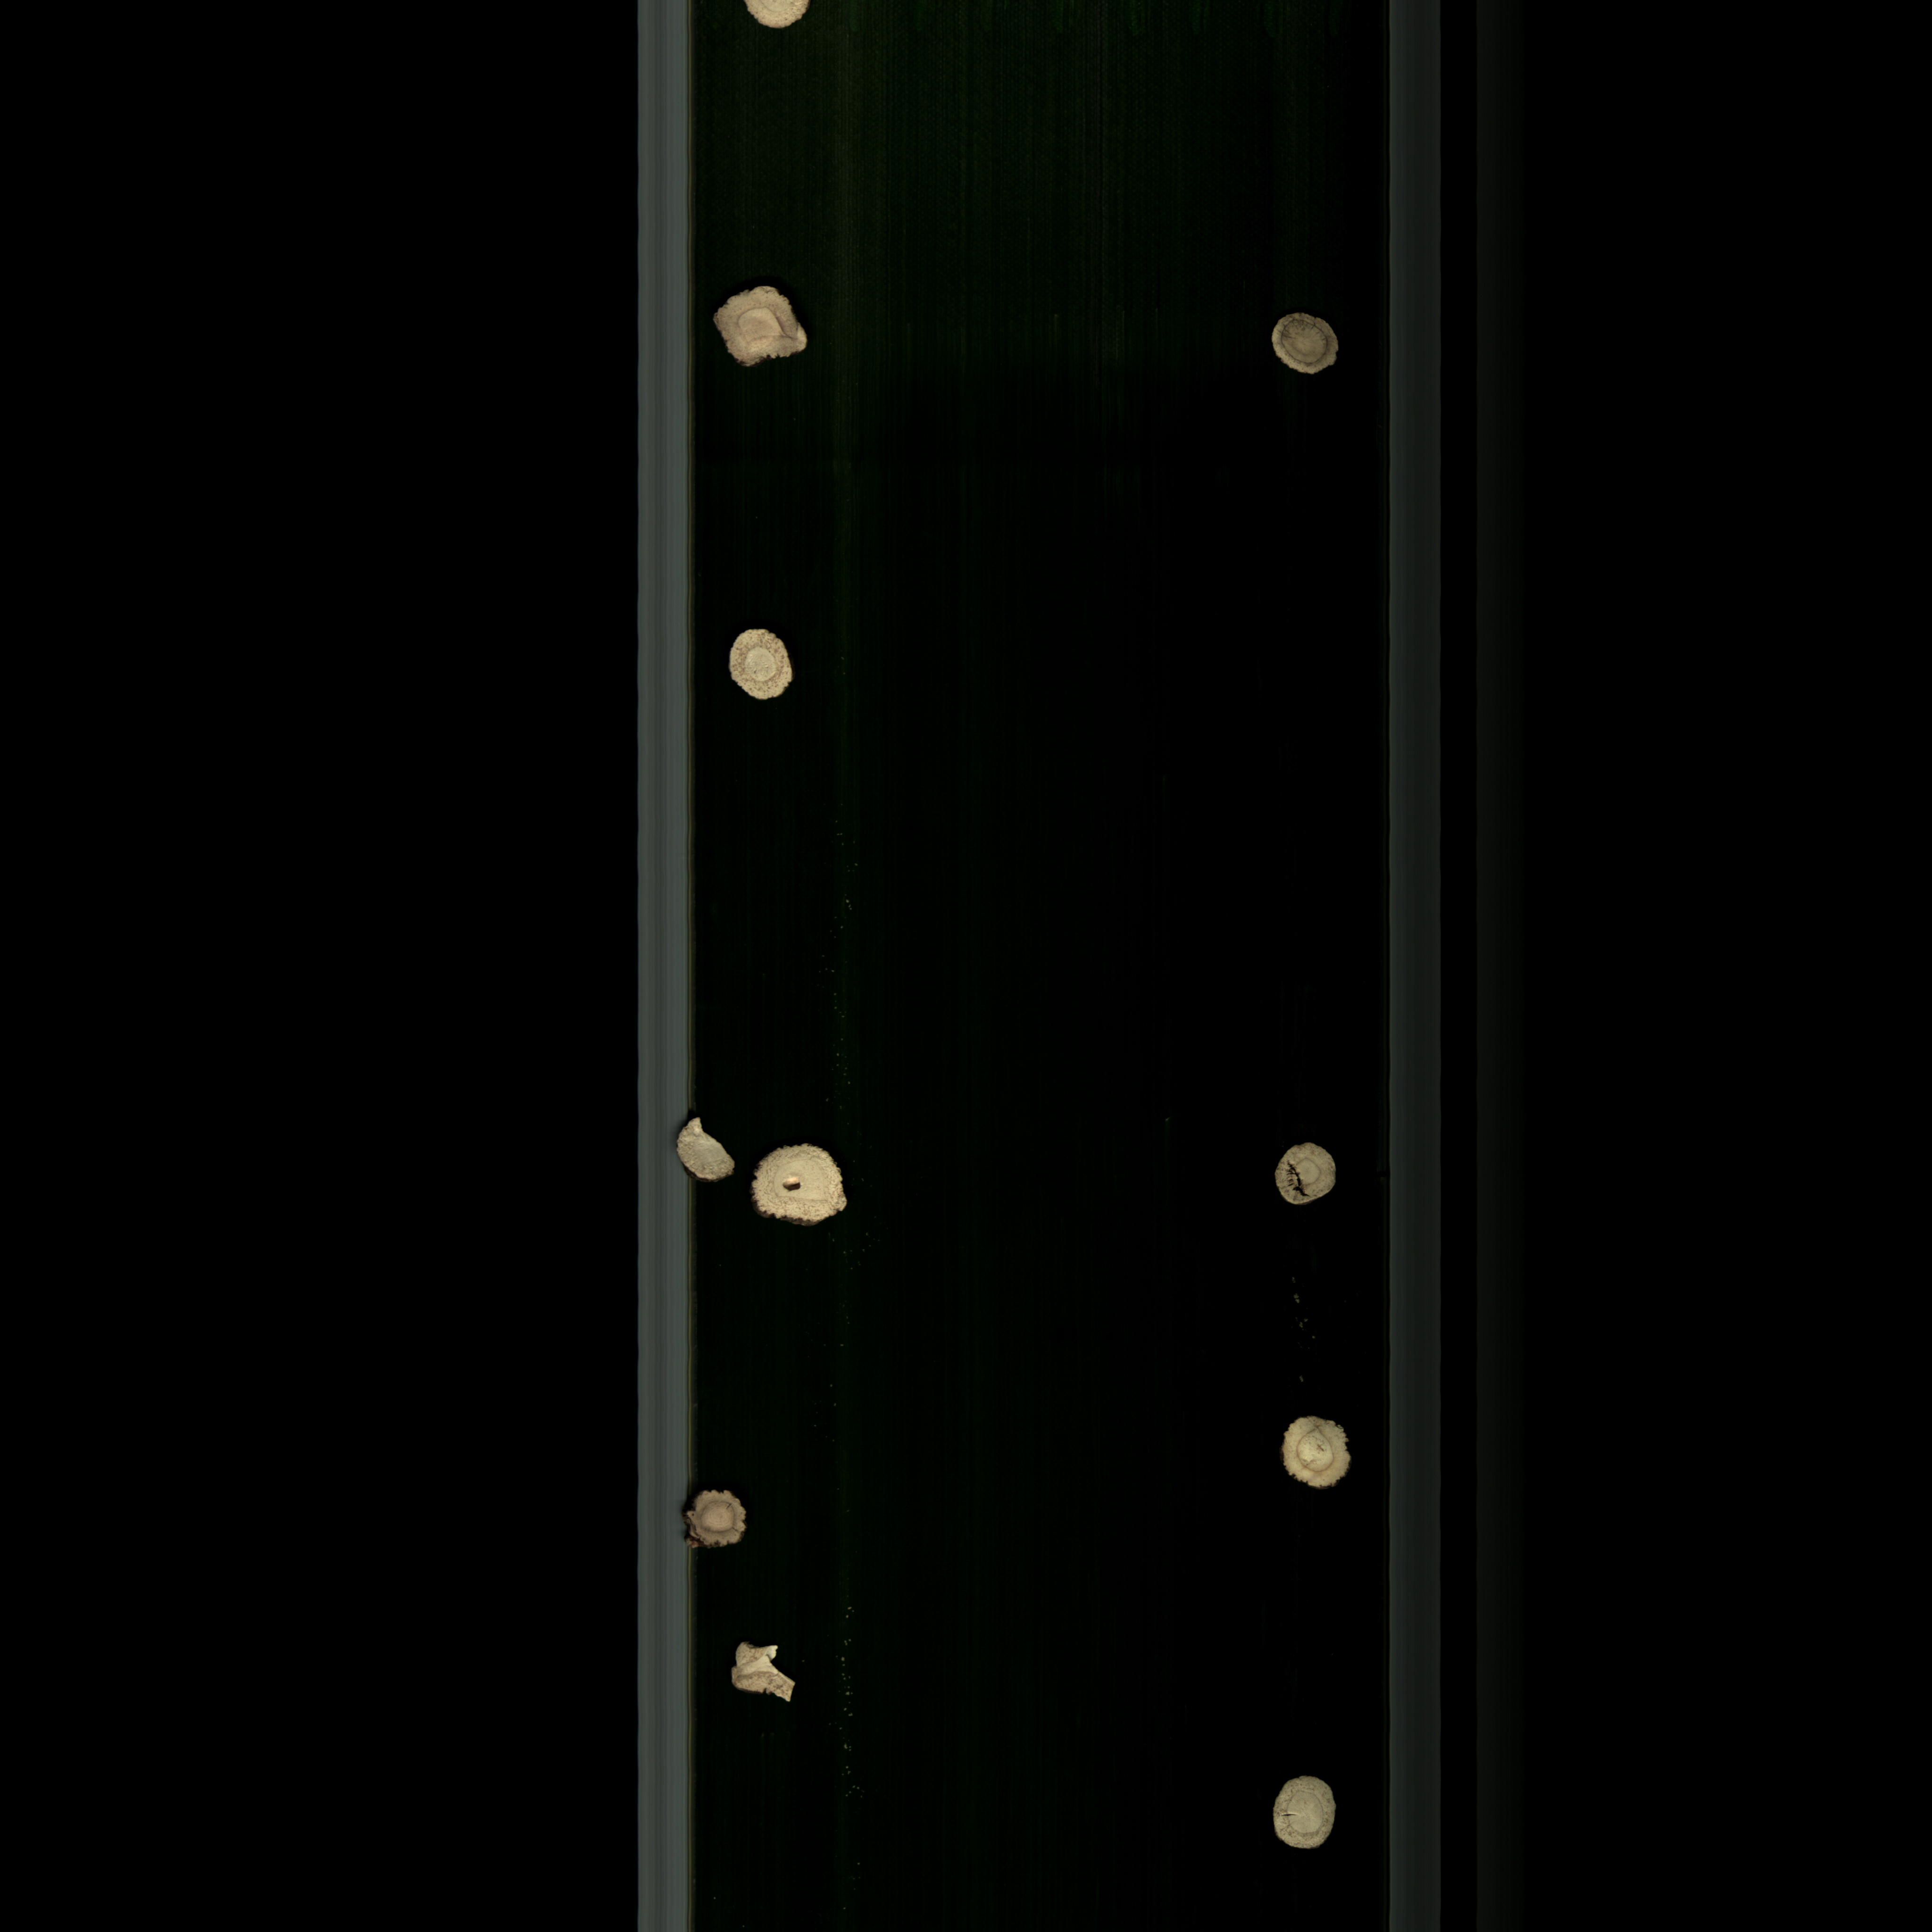debris: (720, 1631, 814, 1729), (672, 1106, 741, 1198)
hole: (740, 1136, 869, 1235), (1265, 1129, 1353, 1221), (1269, 1771, 1343, 1863)
moldy: (702, 276, 823, 386), (1258, 306, 1352, 398), (667, 1481, 766, 1560)
